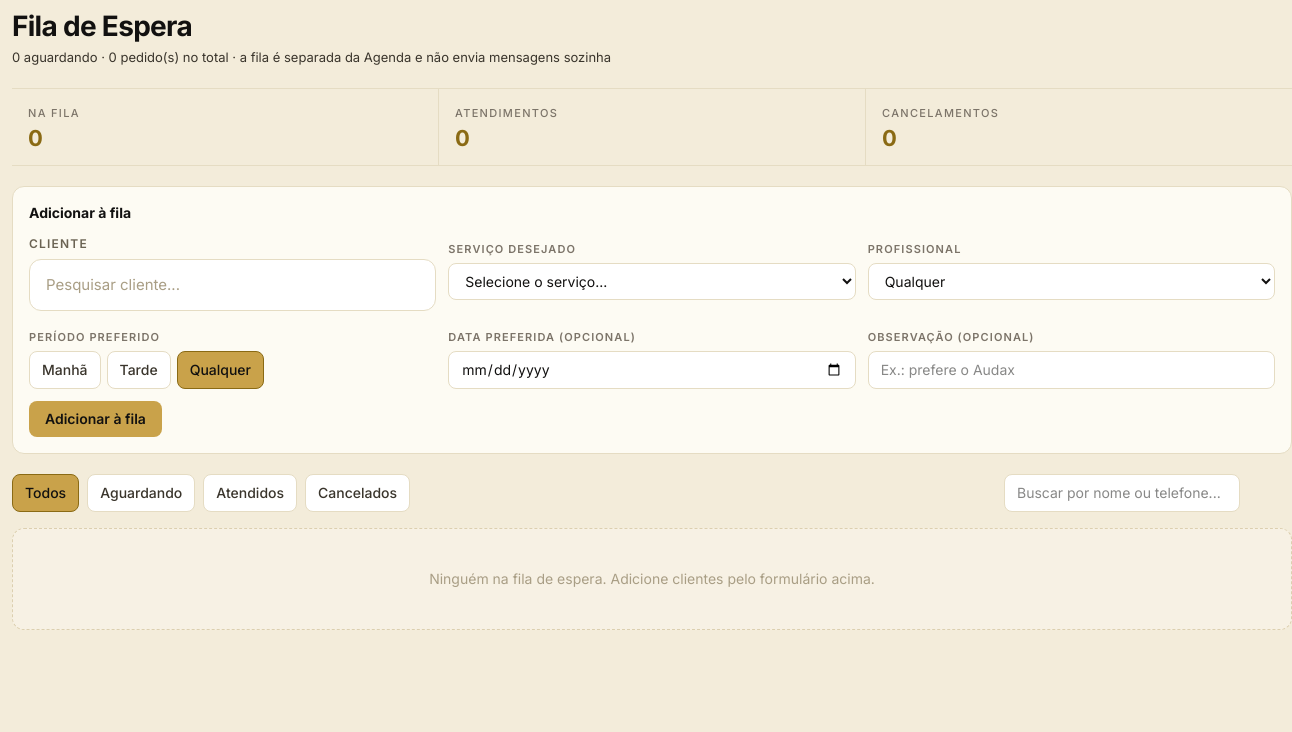
Test: Espera — Editar segue espera:pedido_editar › profissional não vê Editar no pedido
The width and height of the screenshot is (1292, 732).
In the dropdown labelled "Cliente": (233,285) [29,259,436,311], type "Ana"
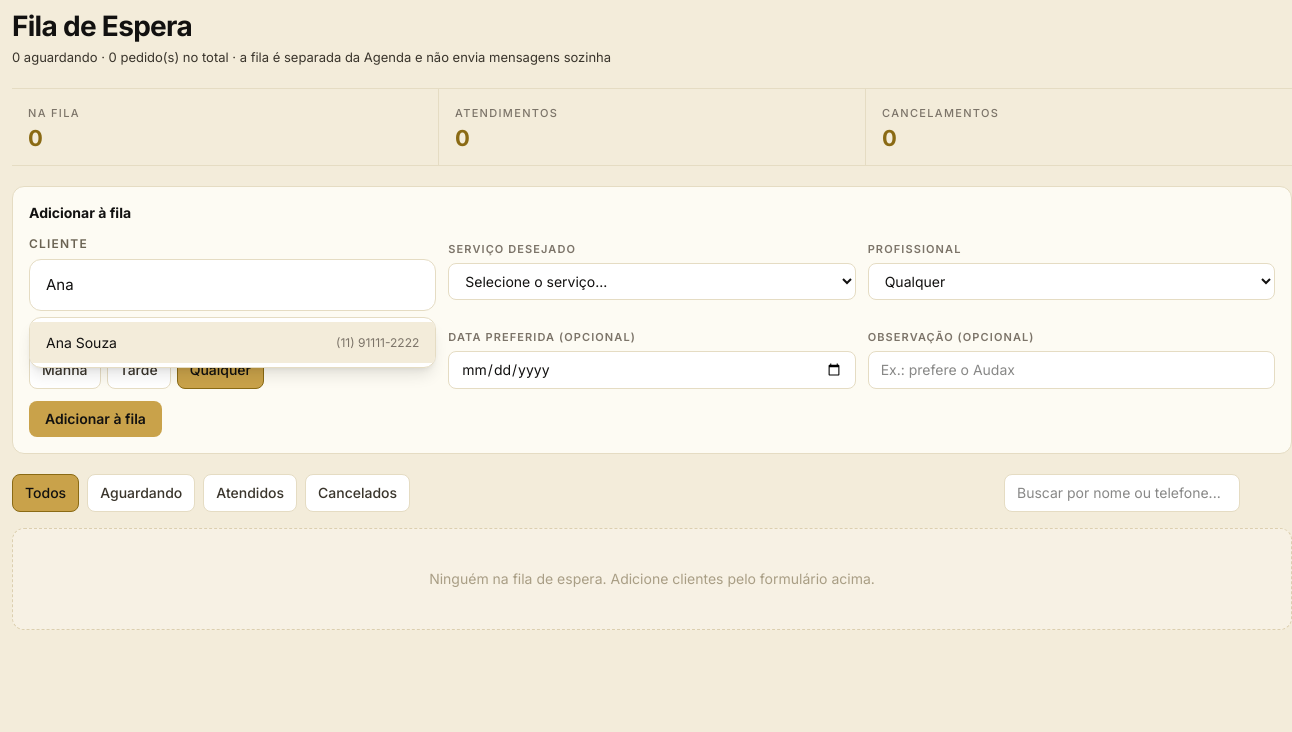
Click the option "Ana Souza (11) 91111-2222": (81,342) [30,322,435,363]
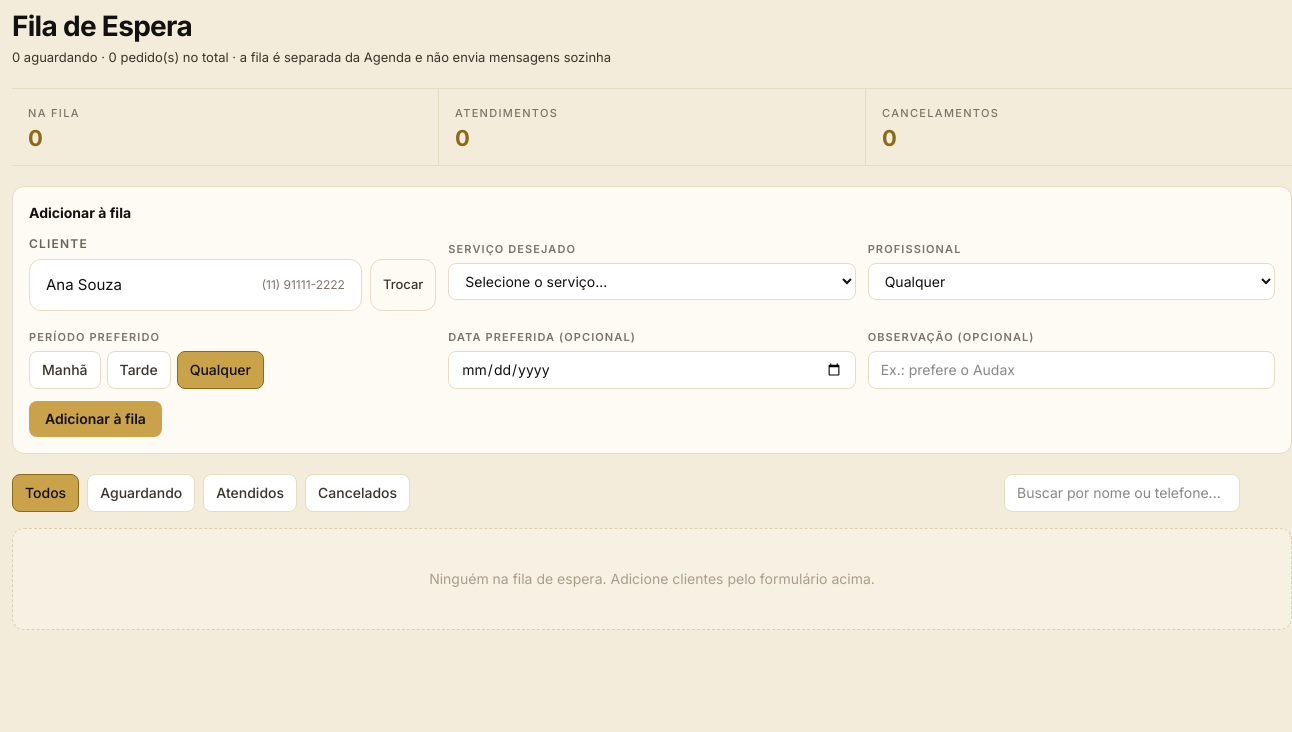
Select "Corte Degradê" in the dropdown labelled "Serviço desejado": (652,282) [448,263,856,300]
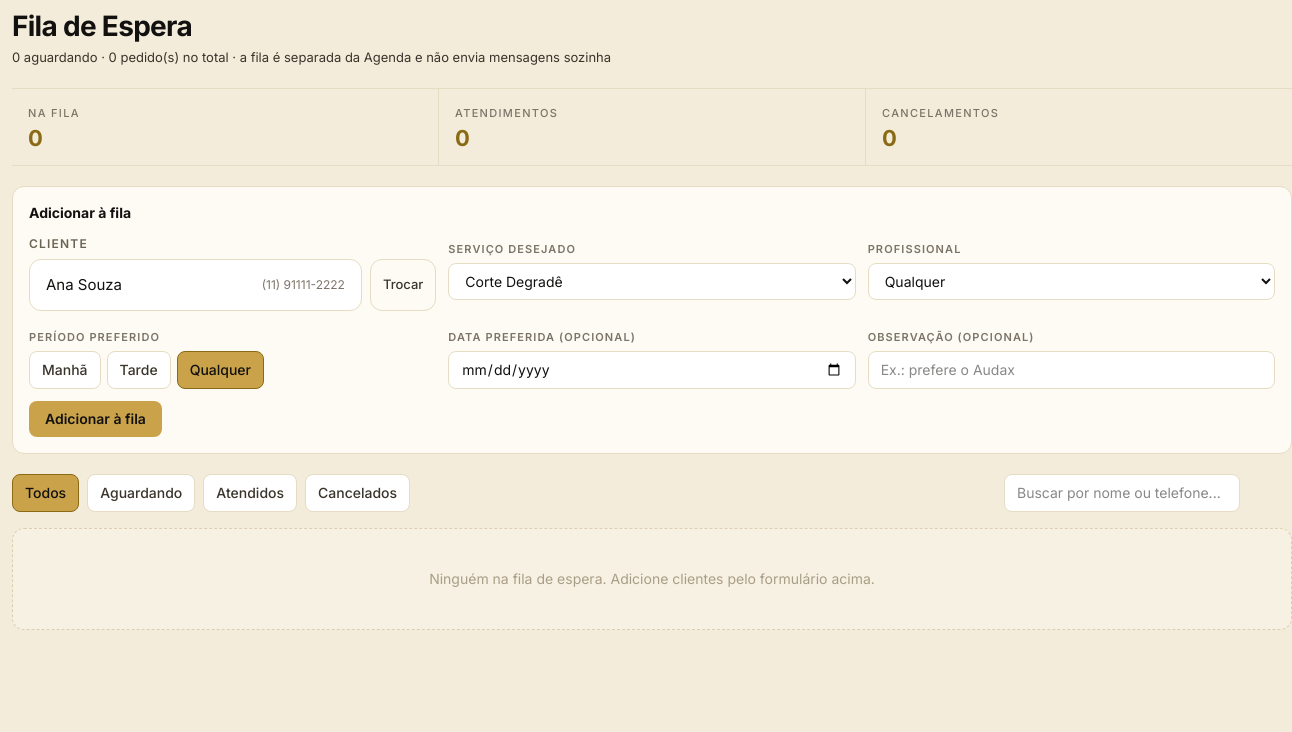
Click the button "Adicionar à fila": (95,419) [29,401,162,437]
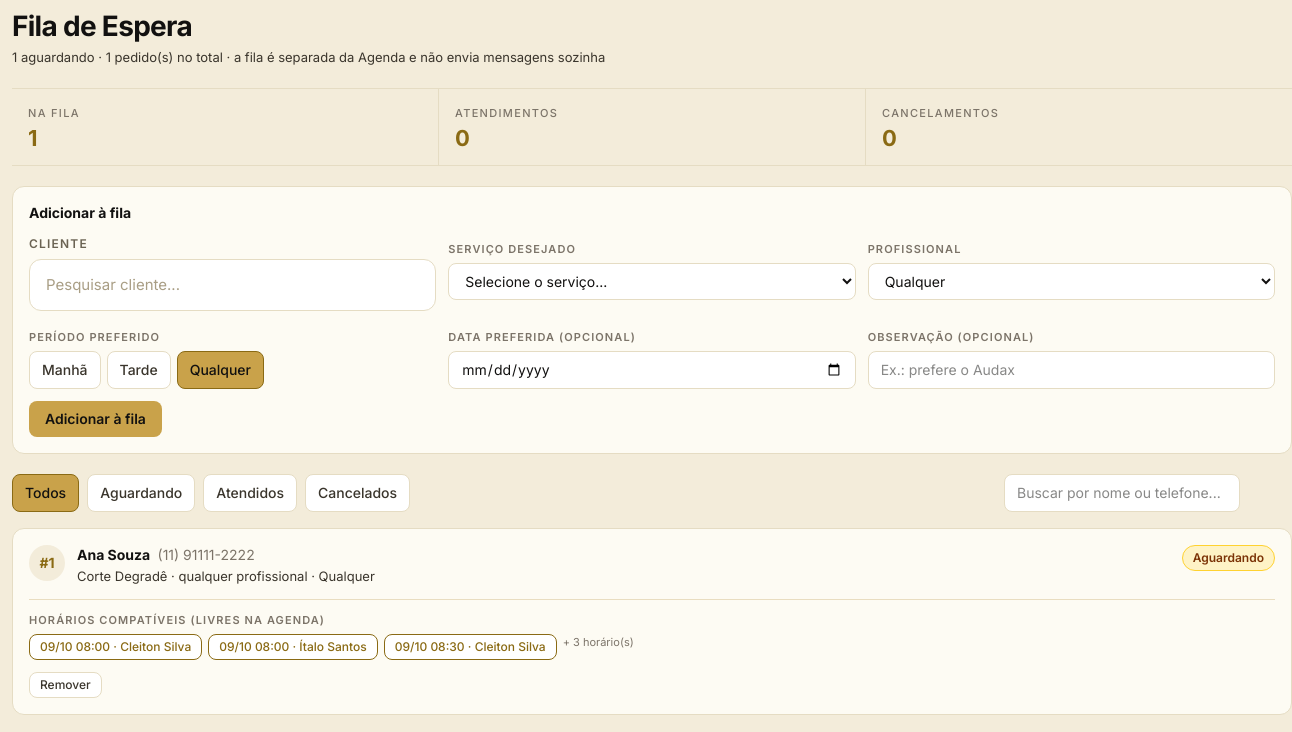
Now the button "Remover" is shown, box [29,672,102,698]
